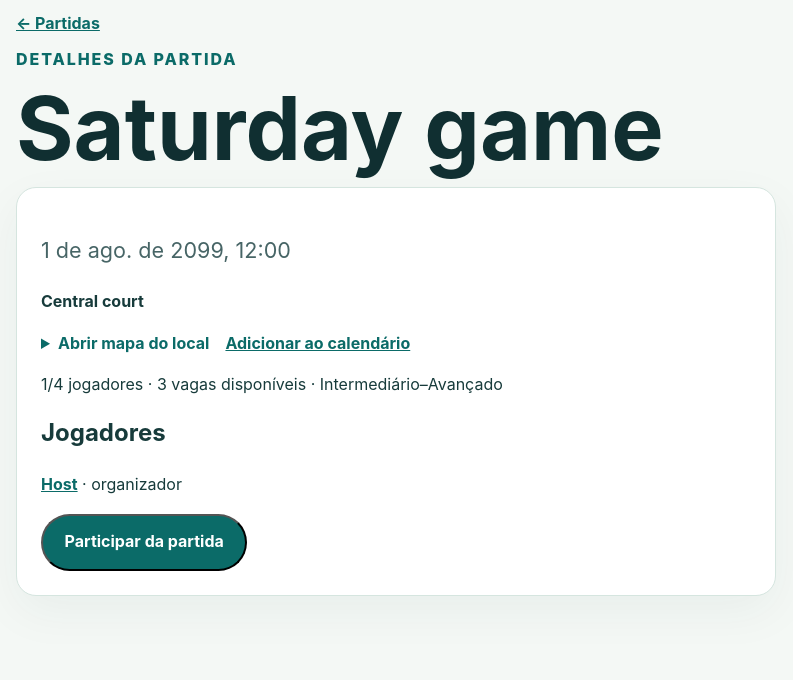
Scenario: GameDetailsPage › shows the API reason when joining a shared-link game is rejected
This screenshot has width=793, height=680.
Click the button "Participar da partida".
click(144, 542)  # box 41,514 -> 247,570
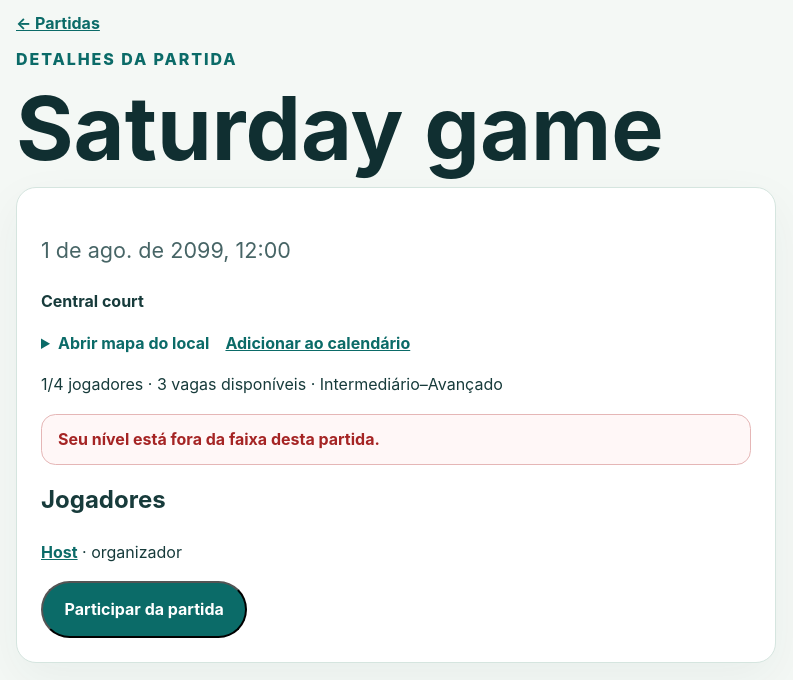
Expected: the message reads "Seu nível está fora da faixa desta partida.", 58,429 -> 380,449
